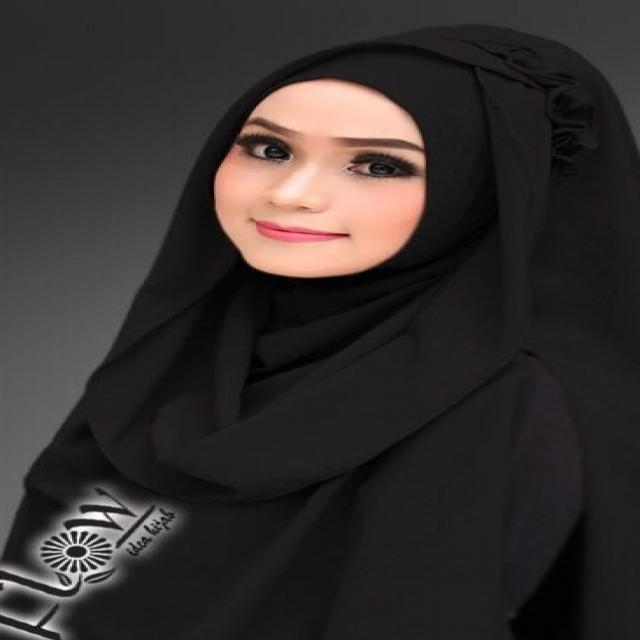head: (187, 27, 619, 295)
